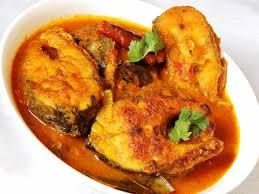Fish Curry: (13, 4, 239, 188)
